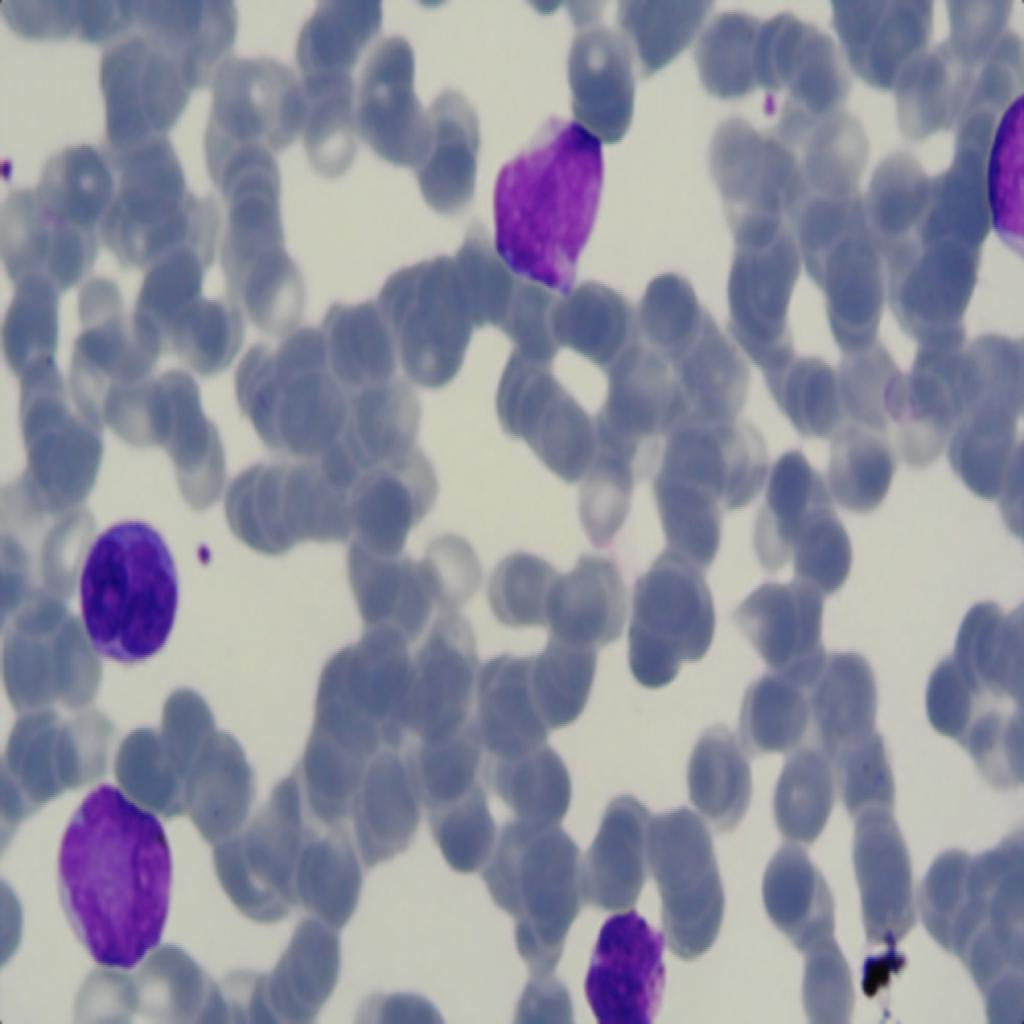Myeoblast: (44, 770, 181, 974), (488, 93, 608, 294), (72, 509, 180, 673), (581, 886, 674, 1022)
Platelet: (190, 533, 214, 582), (0, 136, 18, 187), (756, 83, 777, 114)
